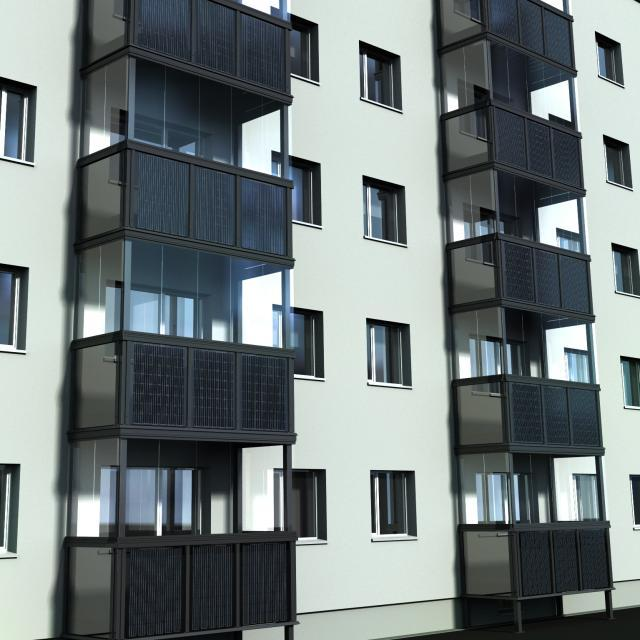Window: (109, 285, 201, 341), (119, 118, 203, 164), (105, 469, 194, 497), (276, 313, 316, 374), (274, 162, 314, 222), (369, 327, 402, 384), (2, 92, 29, 160), (278, 14, 310, 70), (364, 54, 396, 103), (368, 189, 398, 241), (476, 342, 520, 374), (276, 473, 322, 499), (466, 210, 514, 233), (2, 269, 16, 344), (462, 84, 483, 132), (480, 478, 524, 498), (614, 253, 636, 293), (608, 144, 628, 182), (597, 43, 620, 76), (374, 478, 409, 498), (572, 475, 600, 500), (568, 354, 592, 382), (453, 2, 487, 20), (622, 362, 636, 404), (0, 468, 16, 500), (560, 232, 581, 252), (632, 476, 636, 496)
